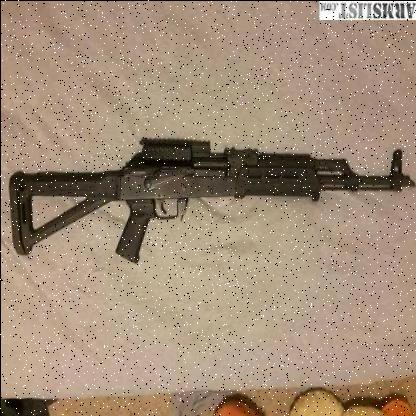rifle: (3, 102, 416, 296)
